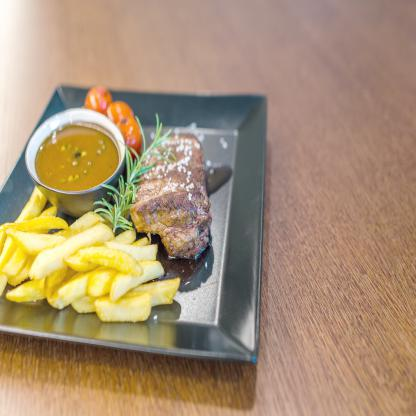Carne: (137, 134, 215, 268)
